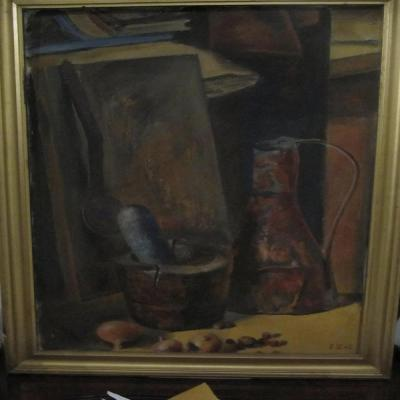painting: (0, 0, 400, 377)
